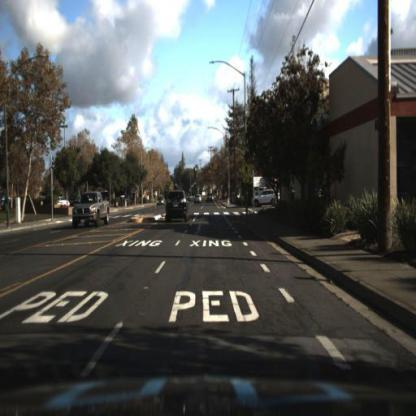car: (67, 189, 114, 233), (161, 184, 195, 231), (165, 189, 190, 223), (252, 191, 281, 209), (206, 191, 218, 207), (192, 193, 203, 206)
pedestrian: (244, 187, 252, 211)
